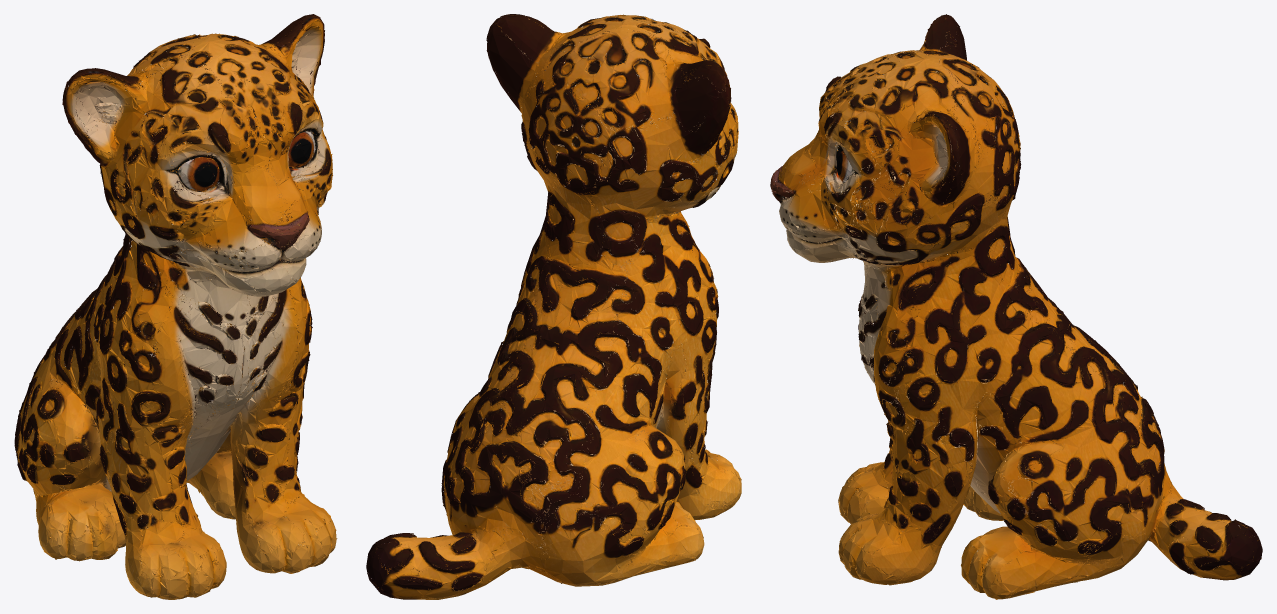
The model's file is jaguar.fbx.
3 views of the same model, side by side, from view 1: azimuth 30°, elevation 25°; view 2: azimuth 150°, elevation 25°; view 3: azimuth 270°, elevation 25° (orthographic). The views are drawn at different scales.
Parts seen in each view (by area): view 1: jaguar; view 2: jaguar; view 3: jaguar.
Part boxes in pixels (x1=…): jaguar: x1=14, y1=14, x2=337, y2=599; jaguar: x1=366, y1=14, x2=741, y2=599; jaguar: x1=770, y1=14, x2=1262, y2=599.
Bounding box in the file's own units: 1.06 × 1.99 × 1.82.
1 material, 1 textured.
